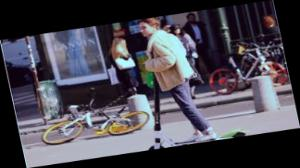nonhelmet: (119, 8, 248, 151)
